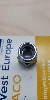Nut: (16, 40, 39, 67)
